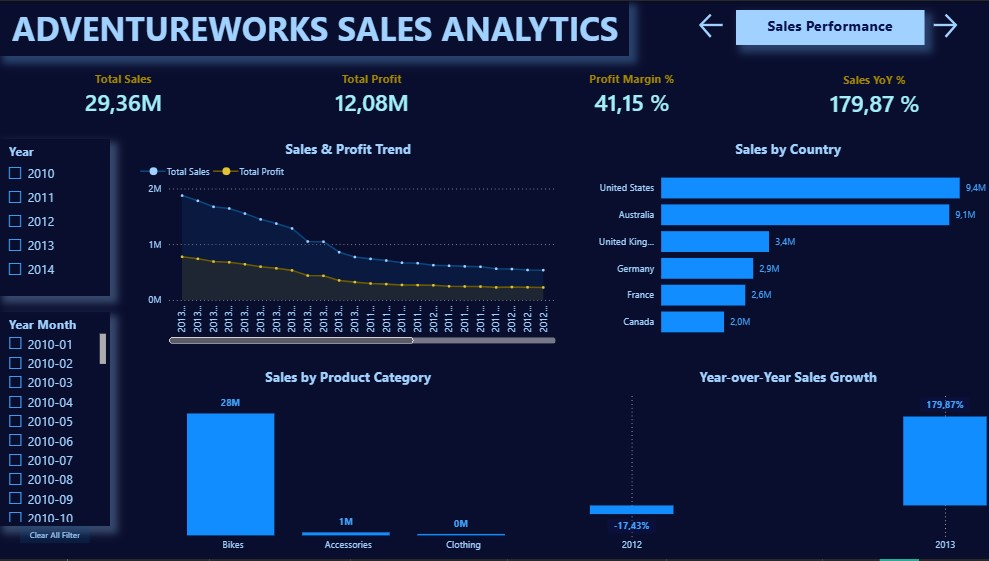

This screenshot's page, from the dashboard's own definition file:
{"tool":"powerbi","page":{"name":"Sales Performance","canvas":[1280,720],"ordinal":1},"visuals":[{"type":"group","id":"g1","title":"Group 1","box":[0.8,70.8,1273,97.8],"z":0},{"type":"cardVisual","fields":{"Data":["sales_featured.Profit Margin %"]},"box":[681.8,71.1,268.5,96],"z":0,"group":"g1"},{"type":"textbox","box":[0,0,813.1,71.3],"z":1000},{"type":"cardVisual","fields":{"Data":["sales_featured.Total Sales"]},"box":[0.8,70.8,318.5,96],"z":2000,"group":"g1"},{"type":"lineChart","title":"Sales & Profit Trend","fields":{"Category":["DimDate.Year Month"],"Y":["sales_featured.Total Sales","sales_featured.Total Profit"]},"box":[177.5,177.5,545.5,269.1],"z":2000},{"type":"cardVisual","fields":{"Data":["sales_featured.Total Profit"]},"box":[319.6,71.1,322.9,96],"z":3000,"group":"g1"},{"type":"clusteredBarChart","title":"Sales by Country","fields":{"Category":["sales_featured.Country"],"Y":["sales_featured.Total Sales"]},"box":[757.8,177.5,522.2,269.1],"z":3000},{"type":"cardVisual","fields":{"Data":["sales_featured.Sales YoY %"]},"box":[985.8,72.6,288,96],"z":4000,"group":"g1"},{"type":"slicer","fields":{"Values":["DimDate.Year"]},"box":[0,177.5,142.5,202.2],"z":4000},{"type":"slicer","fields":{"Values":["DimDate.Year Month"]},"box":[0,401.5,142.5,276.4],"z":5000},{"type":"textbox","box":[951.3,11.6,242.9,45.1],"z":6000},{"type":"clusteredColumnChart","title":"Sales by Product Category","fields":{"Y":["sales_featured.Total Sales"],"Category":["sales_featured.ProductCategoryName"]},"box":[177.5,472.7,545.5,247.3],"z":7000},{"type":"clusteredColumnChart","title":"Year-over-Year Sales Growth","fields":{"Category":["DimDate.Year"],"Y":["sales_featured.Sales YoY %"]},"box":[757.8,472.7,522.2,247.3],"z":8000},{"type":"actionButton","box":[1200,11.6,43.6,40.7],"z":9000},{"type":"actionButton","box":[897.5,11.6,43.6,40.7],"z":10000},{"type":"actionButton","box":[27.3,677.8,89.9,22.2],"z":11000}]}

Visuals, with their boxes in screenshot pixels (x1, y1, x2, y2), scaled from the page's 1280x720 canvas onto the 989x561 screenshot:
"Group 1" group: [1, 55, 984, 131]
cardVisual - sales_featured.Profit Margin %: [527, 55, 734, 130]
textbox: [0, 0, 628, 56]
cardVisual - sales_featured.Total Sales: [1, 55, 247, 130]
"Sales & Profit Trend" lineChart: [137, 138, 559, 348]
cardVisual - sales_featured.Total Profit: [247, 55, 496, 130]
"Sales by Country" clusteredBarChart: [586, 138, 988, 348]
cardVisual - sales_featured.Sales YoY %: [762, 57, 984, 131]
slicer - DimDate.Year: [0, 138, 110, 296]
slicer - DimDate.Year Month: [0, 313, 110, 528]
textbox: [735, 9, 923, 44]
"Sales by Product Category" clusteredColumnChart: [137, 368, 559, 560]
"Year-over-Year Sales Growth" clusteredColumnChart: [586, 368, 988, 560]
actionButton: [927, 9, 961, 41]
actionButton: [693, 9, 727, 41]
actionButton: [21, 528, 91, 545]
